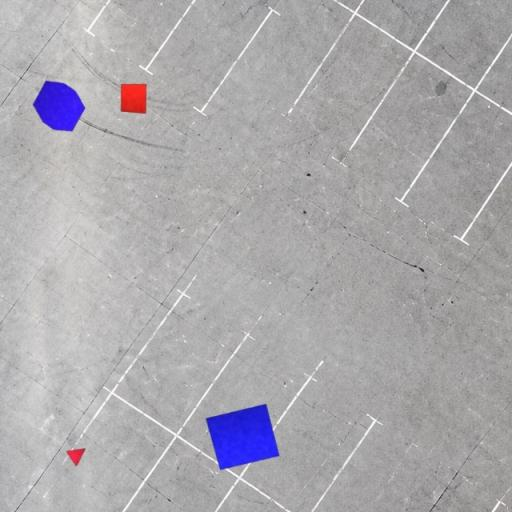BLUE_SQUARE: (205, 404, 280, 470)
RED_SQUARE: (120, 84, 147, 114)
